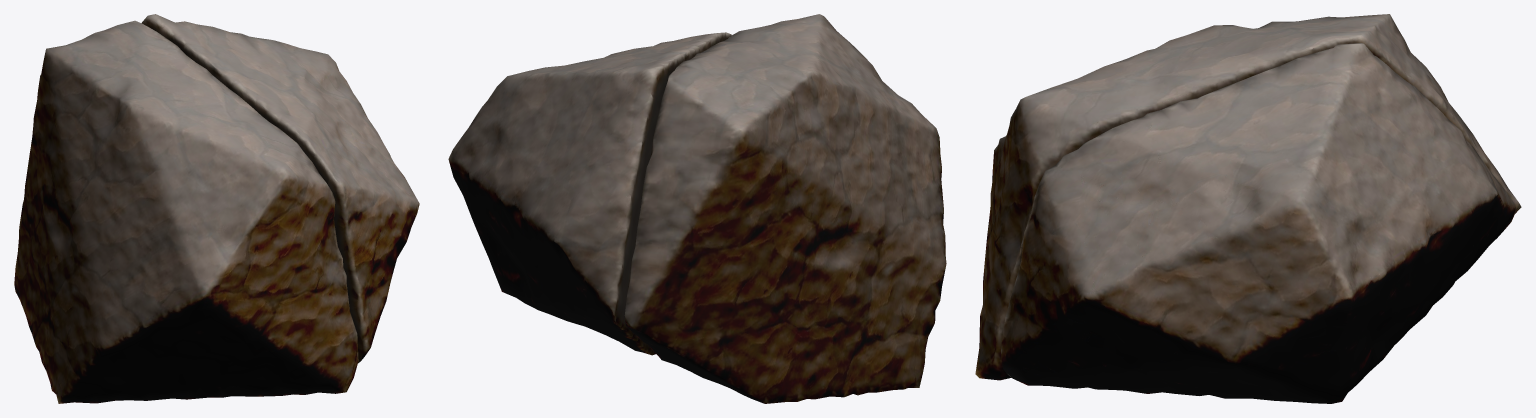
The model's file is boulder_split.glb.
3 views of the same model, side by side, from view 1: azimuth 30°, elevation 25°; view 2: azimuth 150°, elevation 25°; view 3: azimuth 270°, elevation 25° (orthographic). The views are drawn at different scales.
Visible parts, largest first — view 1: rock0, rock1; view 2: rock0, rock1; view 3: rock1, rock0.
Boxes of the visible parts, bbox=[...] form: rock0: bbox=[14, 20, 358, 403]; rock1: bbox=[141, 14, 419, 363]; rock0: bbox=[624, 14, 946, 403]; rock1: bbox=[448, 32, 731, 355]; rock1: bbox=[1001, 43, 1516, 403]; rock0: bbox=[975, 14, 1521, 380].
Bounding box in the file's own units: 1.18 × 0.9485 × 1.35.
2 materials, 2 textured.
